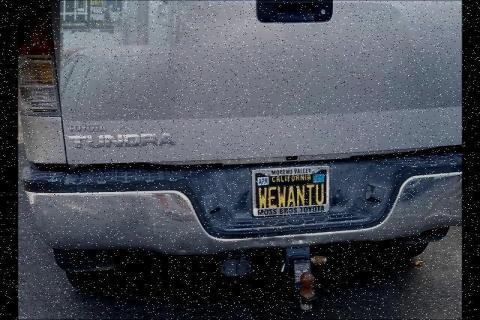LicensePlate: (252, 169, 332, 215)
